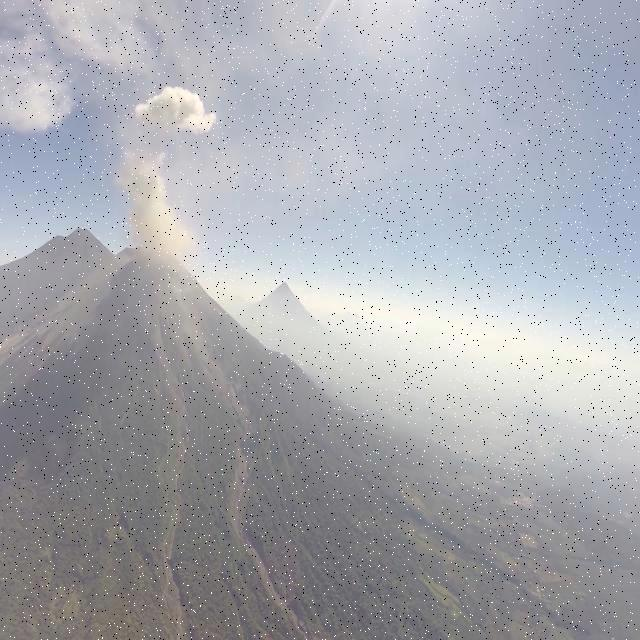Plume: (116, 141, 202, 260), (1, 7, 77, 138), (136, 78, 222, 140)
